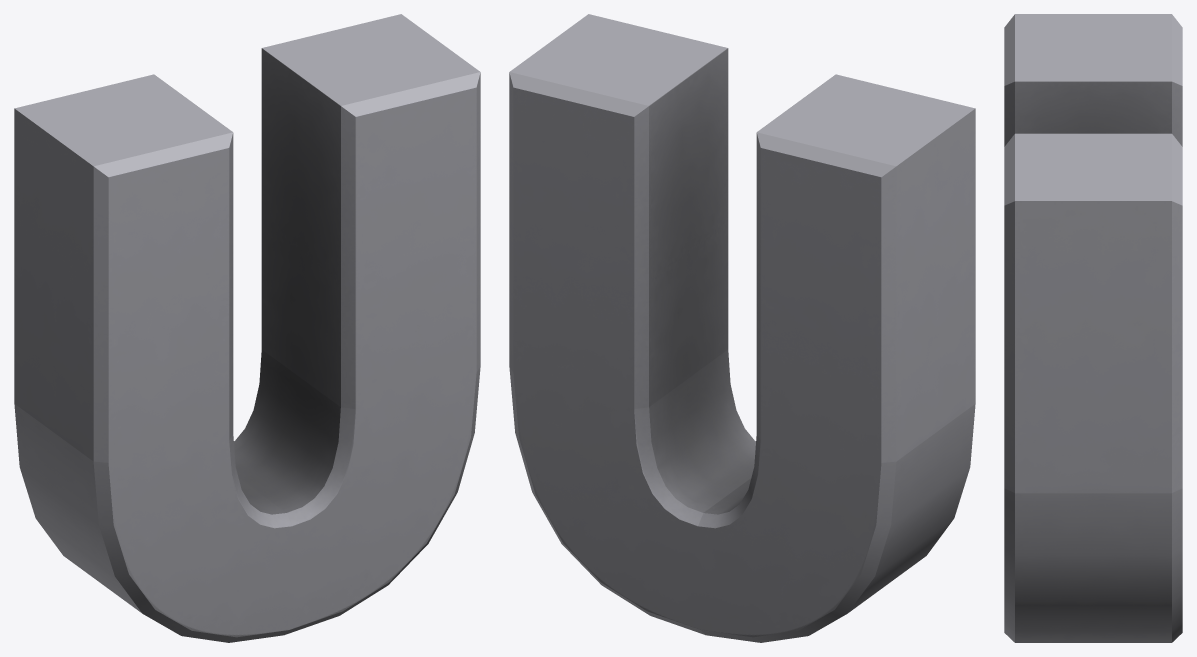
File: U_static.fbx
3 views of the same model, side by side, from view 1: azimuth 30°, elevation 25°; view 2: azimuth 150°, elevation 25°; view 3: azimuth 270°, elevation 25° (orthographic).
Parts seen in each view (by area): view 1: U_static; view 2: U_static; view 3: U_static.
Part boxes in pixels (box(x1,y1,x2,y2)): U_static: box(14, 14, 480, 642); U_static: box(509, 14, 975, 642); U_static: box(1004, 14, 1182, 642).
Bounding box in the file's own units: 81.82 × 104 × 33.
